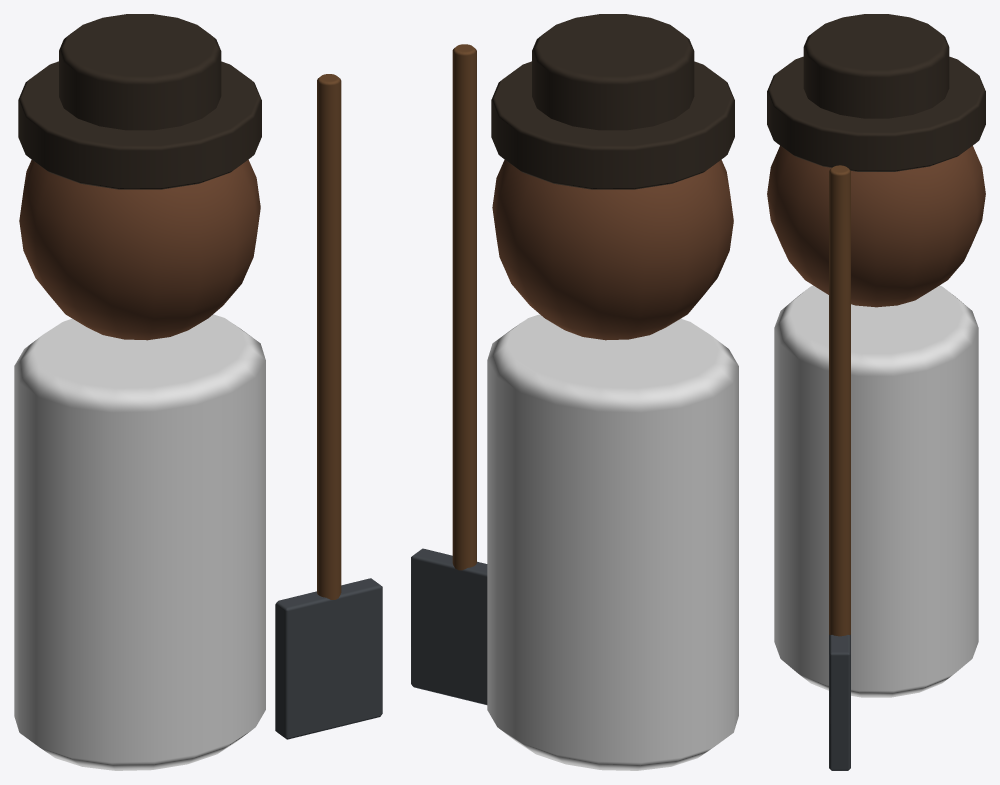
File: gravedigger.0c29ab1f.glb
3 renders of one model, left to right at view 1: azimuth 30°, elevation 25°; view 2: azimuth 150°, elevation 25°; view 3: azimuth 270°, elevation 25°, orthographic. The views are drawn at different scales.
Visible parts, largest first — view 1: accent, body; view 2: accent, body; view 3: accent, body.
Part boxes in pixels (x1,y1,x2,y2): accent: [14, 314, 265, 770]; body: [18, 14, 382, 739]; accent: [487, 314, 738, 770]; body: [411, 14, 734, 704]; accent: [774, 285, 978, 697]; body: [767, 14, 985, 770].
Bounding box in the file's own units: 0.4676 × 0.96 × 0.3.
